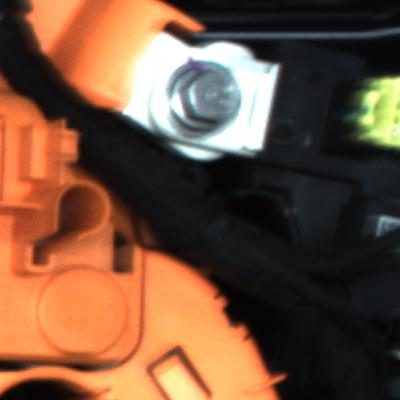nut_b: (161, 58, 254, 145)
